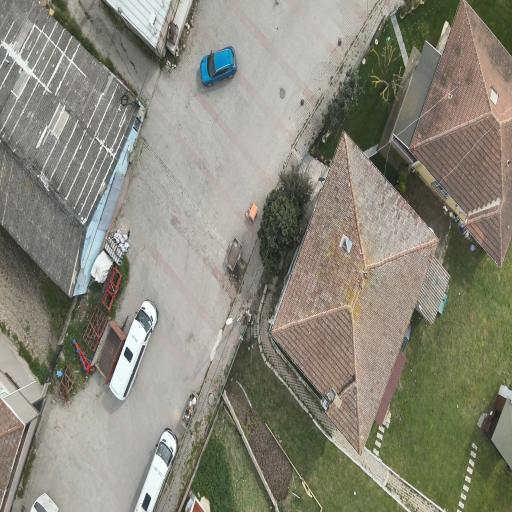car: (110, 301, 158, 400), (136, 429, 177, 511), (200, 46, 237, 87), (31, 494, 58, 511)
